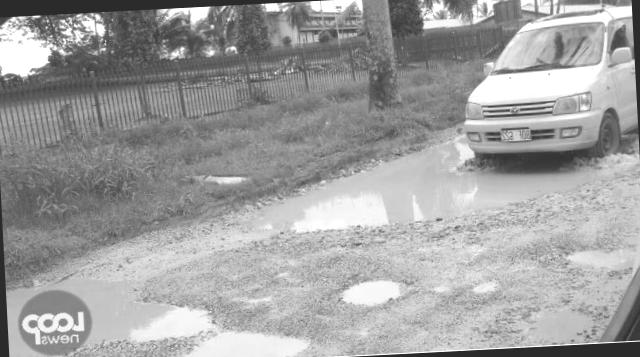Pothole: (174, 89, 640, 260), (4, 227, 299, 357), (487, 286, 604, 348), (545, 232, 640, 280), (325, 270, 405, 316)
